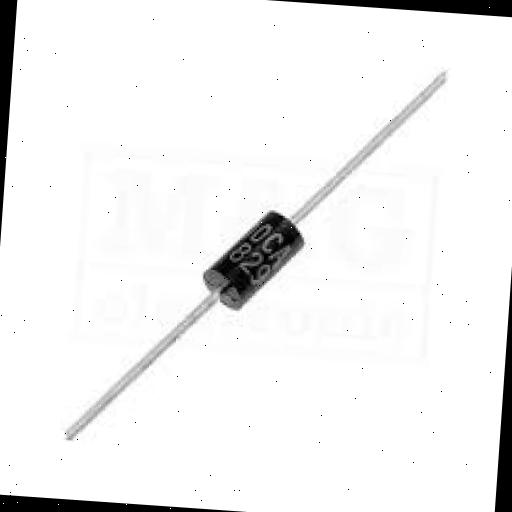DIODE: (62, 42, 448, 464)
